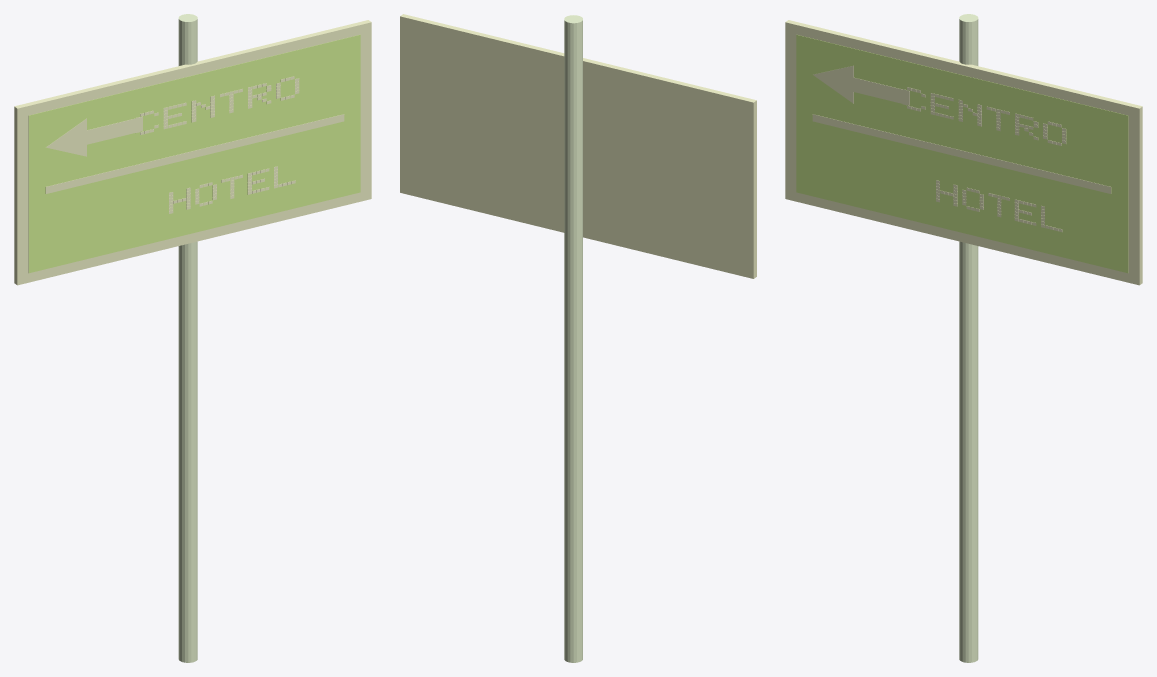
File: sign_destination_stack_centro_hotel_left.glb
The picture shows the model from 3 angles, left to right: view 1: azimuth 30°, elevation 25°; view 2: azimuth 150°, elevation 25°; view 3: azimuth 330°, elevation 25°; orthographic projection.
Parts seen in each view (by area): view 1: layer_1_00, plate_base_00, pole, layer_2_00, layer_2_167, layer_2_168; view 2: plate_base_00, pole; view 3: layer_1_00, plate_base_00, pole, layer_2_00, layer_2_167, layer_2_168.
Boxes of the visible parts, bbox=[...] form: layer_1_00: bbox=[28, 34, 360, 273]; plate_base_00: bbox=[14, 20, 371, 285]; pole: bbox=[178, 14, 197, 662]; layer_2_00: bbox=[45, 114, 344, 193]; layer_2_167: bbox=[87, 116, 142, 144]; layer_2_168: bbox=[46, 118, 86, 156]; plate_base_00: bbox=[400, 14, 756, 278]; pole: bbox=[564, 15, 582, 662]; layer_1_00: bbox=[796, 34, 1128, 273]; plate_base_00: bbox=[785, 20, 1142, 285]; pole: bbox=[959, 14, 978, 662]; layer_2_00: bbox=[812, 114, 1111, 193]; layer_2_167: bbox=[853, 77, 909, 105]; layer_2_168: bbox=[813, 65, 853, 103].
Bounding box in the file's own units: 1.27 × 2.2 × 0.0725.
